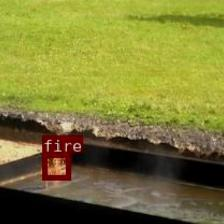fire: (41, 152, 70, 178)
